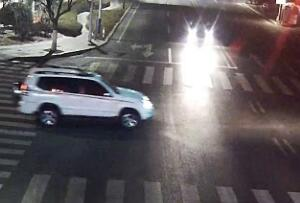car: (9, 64, 156, 129), (184, 18, 218, 43)
